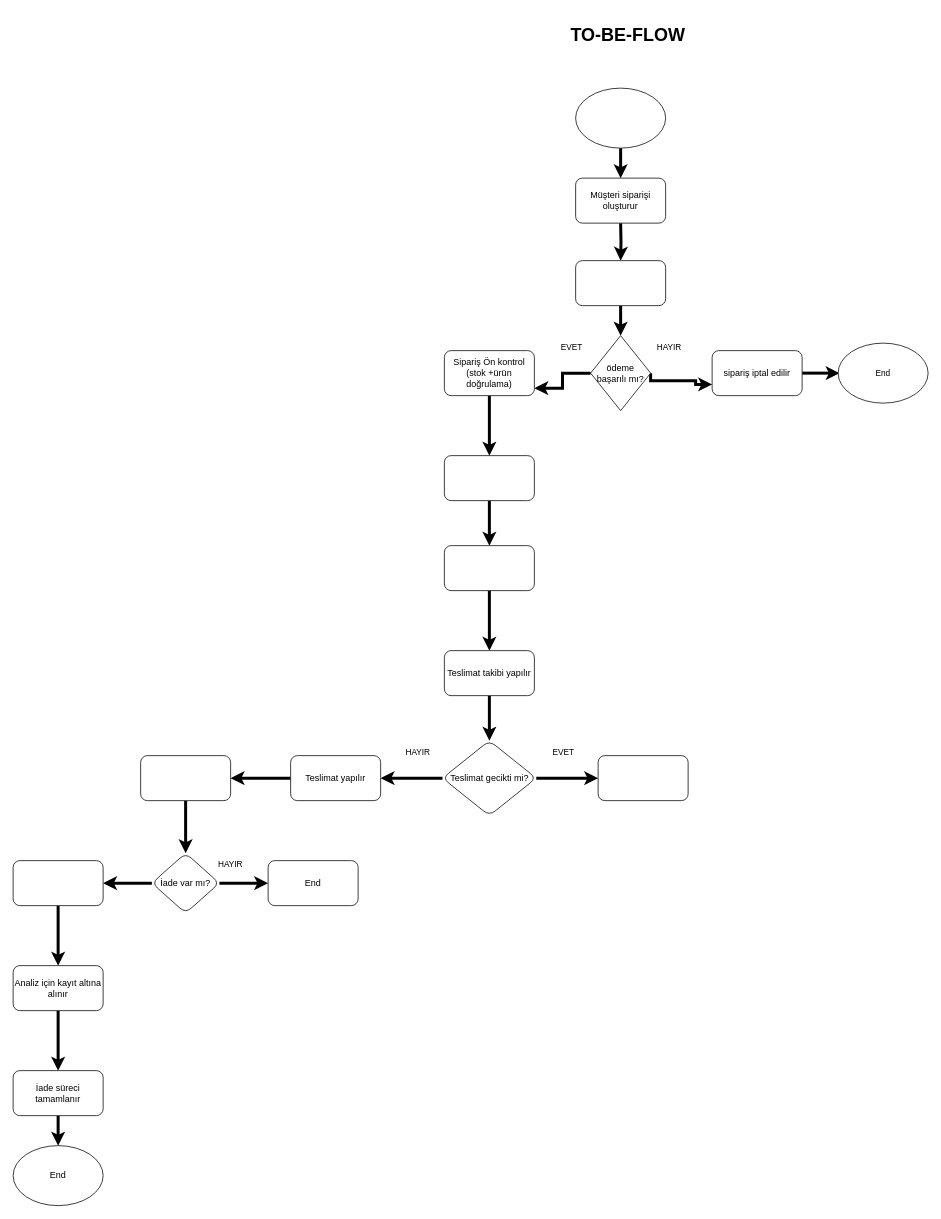
Some shapes in this 941 by 1219 pixel diagram are drawn without their labels. Each missing label, with the centre of its shape:
İade nedeni kategorize edilir: point 57,883
kargoya verilir: point 489,568
Müşteri feedback alınır: point 185,778
Sipariş hazırlanır: point 489,478
START: point 620,117
Uyarı sistemi devreye girer: point 642,778
ödeme yapılır: point 620,283
